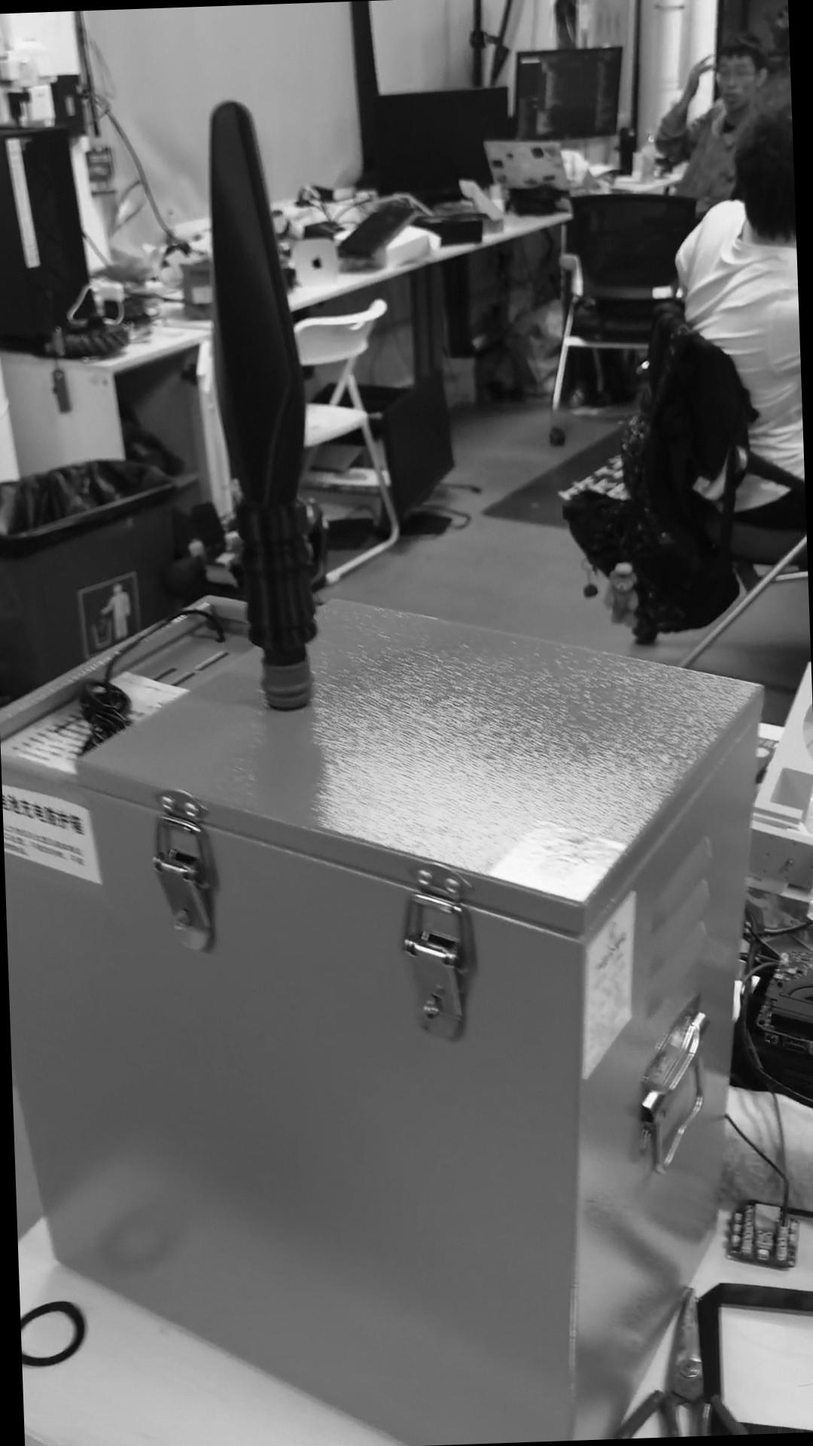base: (259, 657, 318, 711)
